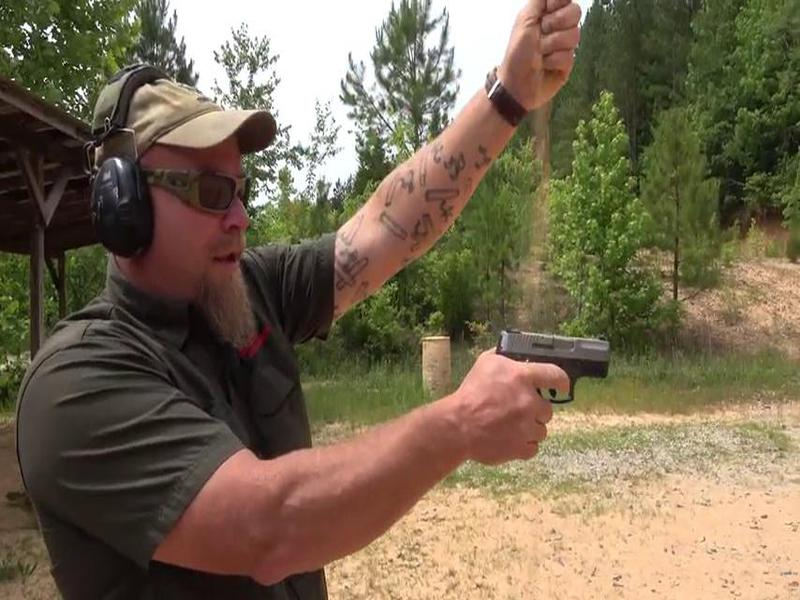Pistola: (470, 314, 618, 429)
